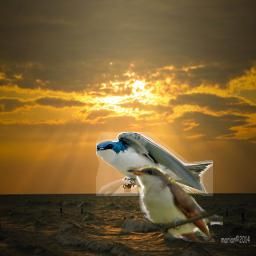Cuckoo: (123, 159, 223, 242)
Swallow: (96, 132, 213, 196)
